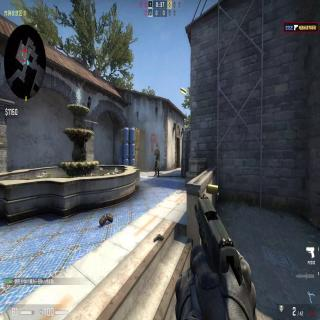T-Body: (154, 145, 160, 177)
T-Head: (156, 145, 158, 150)
